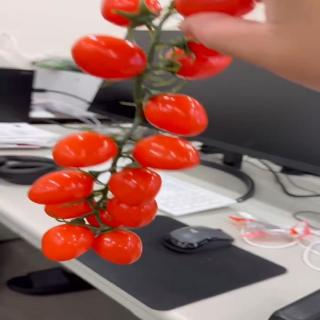tomato: (69, 35, 148, 82), (142, 92, 210, 138), (164, 40, 235, 81), (133, 132, 203, 170), (51, 130, 119, 169), (28, 168, 96, 205), (41, 223, 96, 263), (110, 166, 163, 206), (89, 227, 143, 266), (100, 0, 164, 29), (107, 195, 160, 229), (174, 0, 256, 21), (43, 193, 98, 222)
